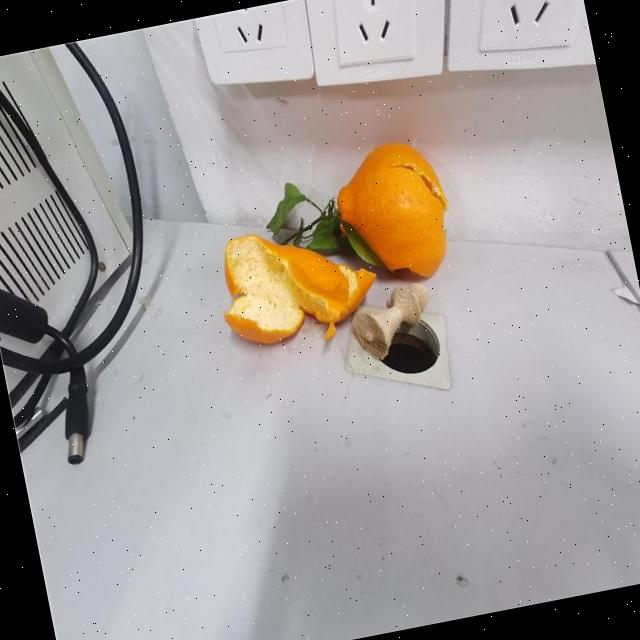orange-peel: (208, 210, 386, 358), (325, 132, 461, 292)
